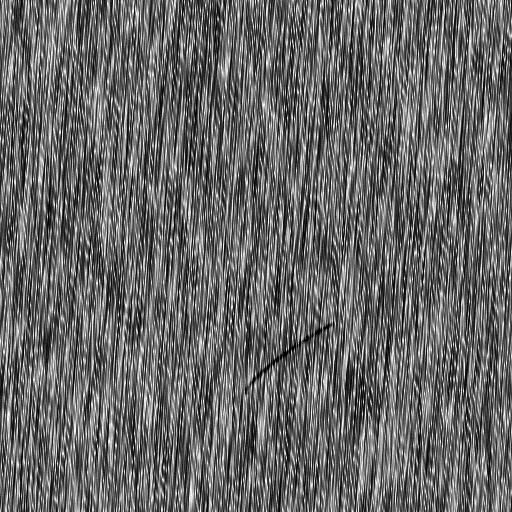DefectTypeC: (247, 324, 337, 389)
